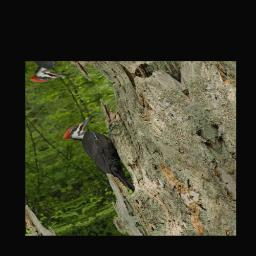Woodpecker: (56, 108, 154, 206)
